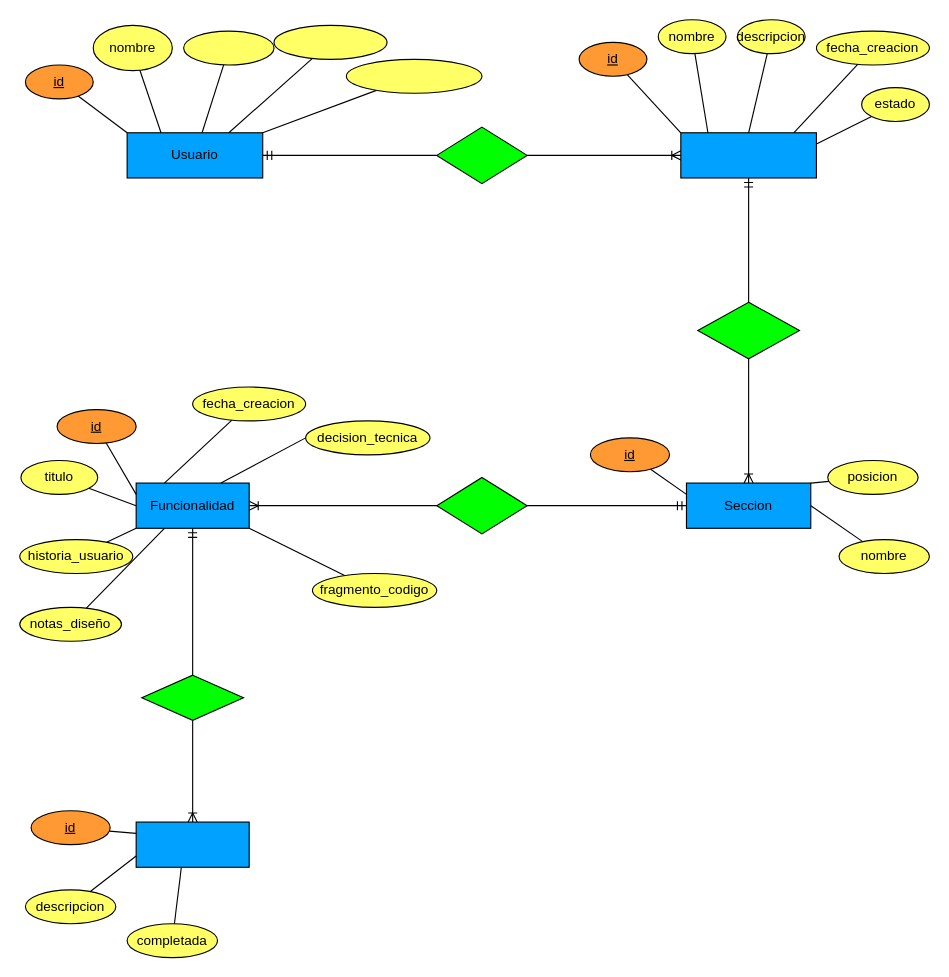
Some shapes in this 949 by 977 pixel diagram are drawn without their labels. The shapes that lost their labels are listed below. From the top down, each one's centre as x and y in pixels, then its label:
(228,47): email
(330,41): contraseña
(413,75): fecha_registro
(481,155): crea
(748,155): Proyecto
(748,330): contiene
(481,505): agrupa
(192,697): tiene
(192,844): Subtarea
